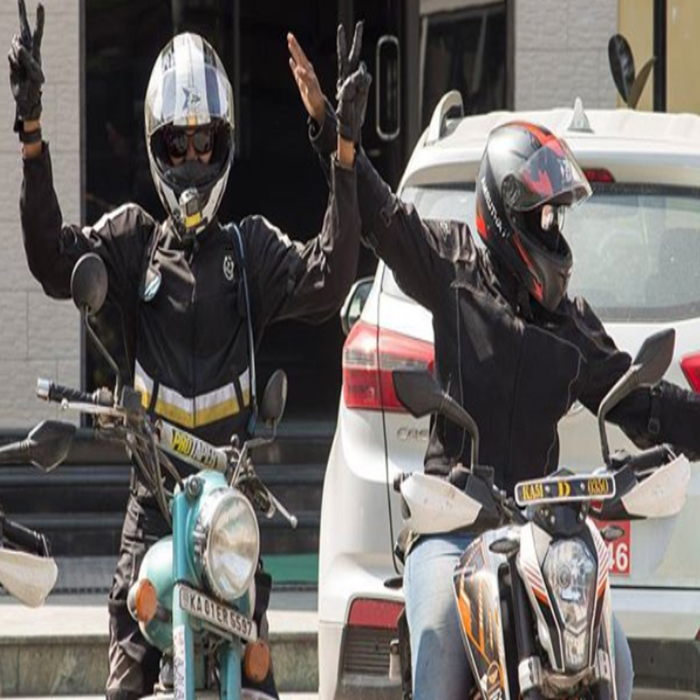h: (475, 119, 595, 318), (142, 31, 238, 246)
n: (174, 583, 260, 643)
